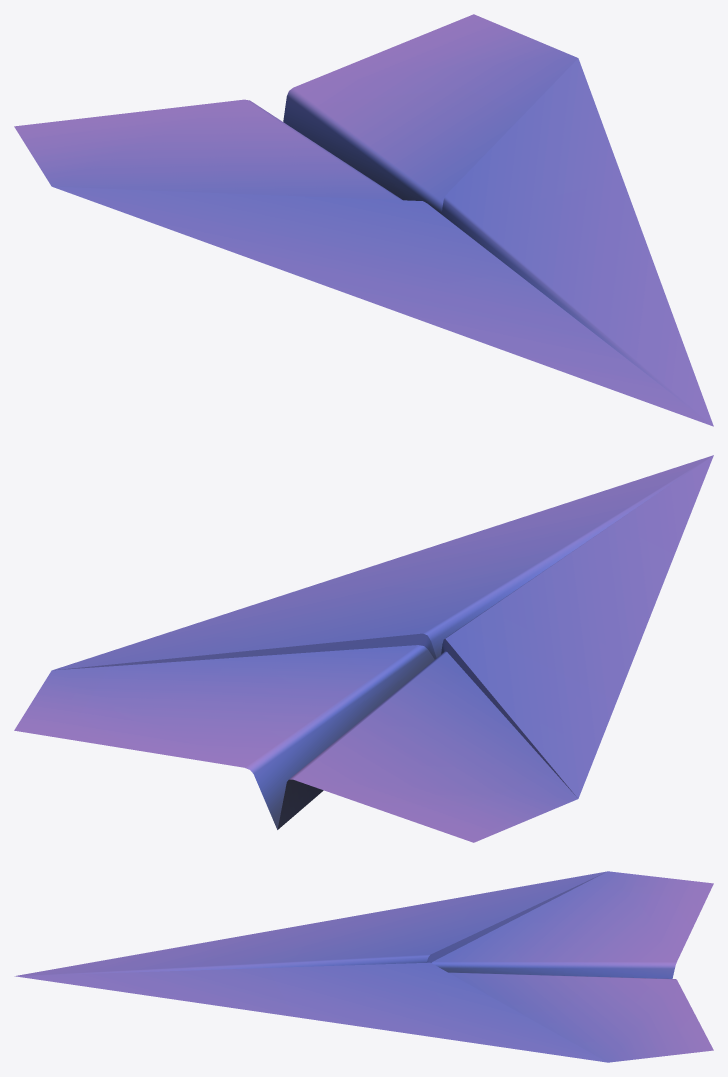
Rendered from Paperairplane.glb.
3 views of the same model, one above another, from view 1: azimuth 30°, elevation 25°; view 2: azimuth 150°, elevation 25°; view 3: azimuth 270°, elevation 25° (orthographic). The views are drawn at different scales.
Visible parts, largest first — view 1: PaperPlane_GEO; view 2: PaperPlane_GEO; view 3: PaperPlane_GEO.
Boxes of the visible parts, x1,y1,x2,y2 form: PaperPlane_GEO: [14, 14, 713, 426]; PaperPlane_GEO: [14, 455, 713, 842]; PaperPlane_GEO: [14, 871, 713, 1062].
Size of the model in its own units: 6.87 by 0.9888 by 10.62.
1 material, 1 textured.
